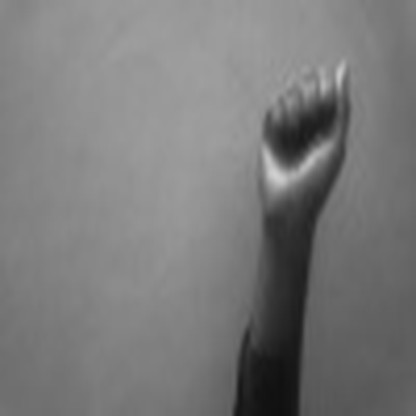a: (250, 45, 359, 228)
